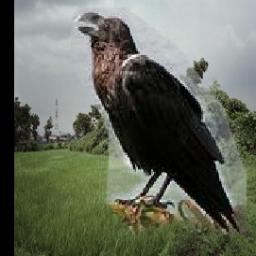Crow: (71, 9, 247, 236)
